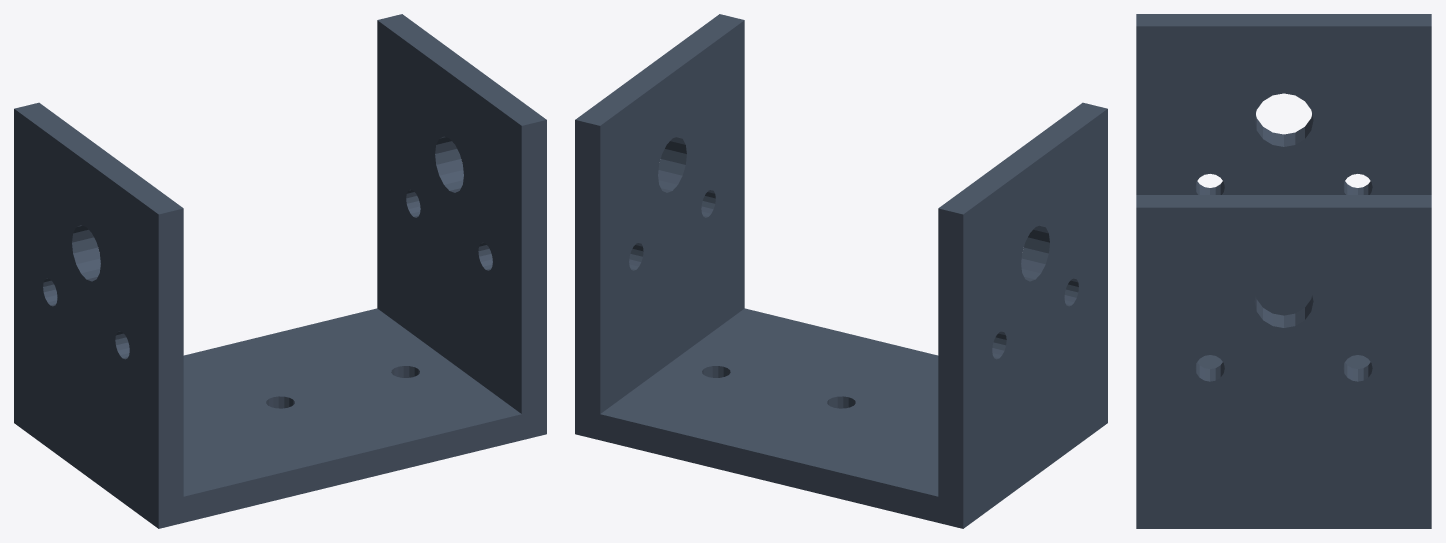
File: kit_u_bracket_small.obj
3 renders of one model, left to right at view 1: azimuth 30°, elevation 25°; view 2: azimuth 150°, elevation 25°; view 3: azimuth 270°, elevation 25°, orthographic. The views are drawn at different scales.
Parts seen in each view (by area): view 1: kit_u_bracket_small; view 2: kit_u_bracket_small; view 3: kit_u_bracket_small.
Part boxes in pixels (x1,y1,x2,y2): kit_u_bracket_small: (14,14,546,528); kit_u_bracket_small: (575,14,1107,528); kit_u_bracket_small: (1136,14,1431,528).
Size of the model in its own units: 0.062 by 0.048 by 0.04.
